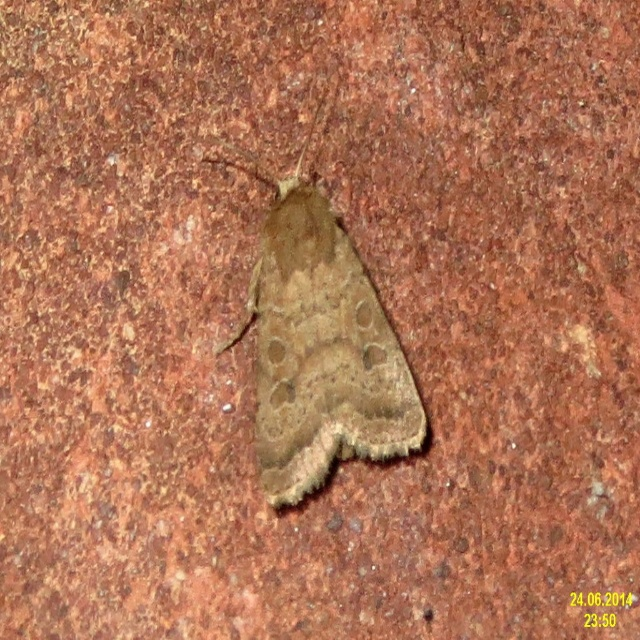Moths and butterflies: (213, 86, 428, 511)
